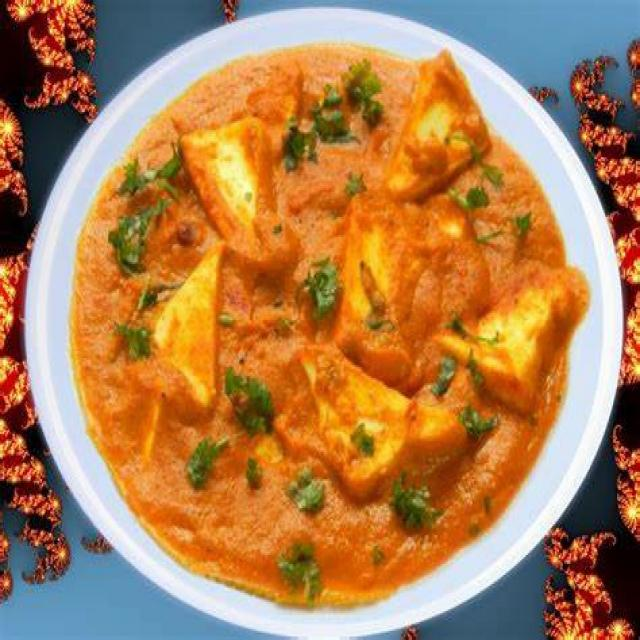ShahiPaneer: (81, 41, 574, 605)
